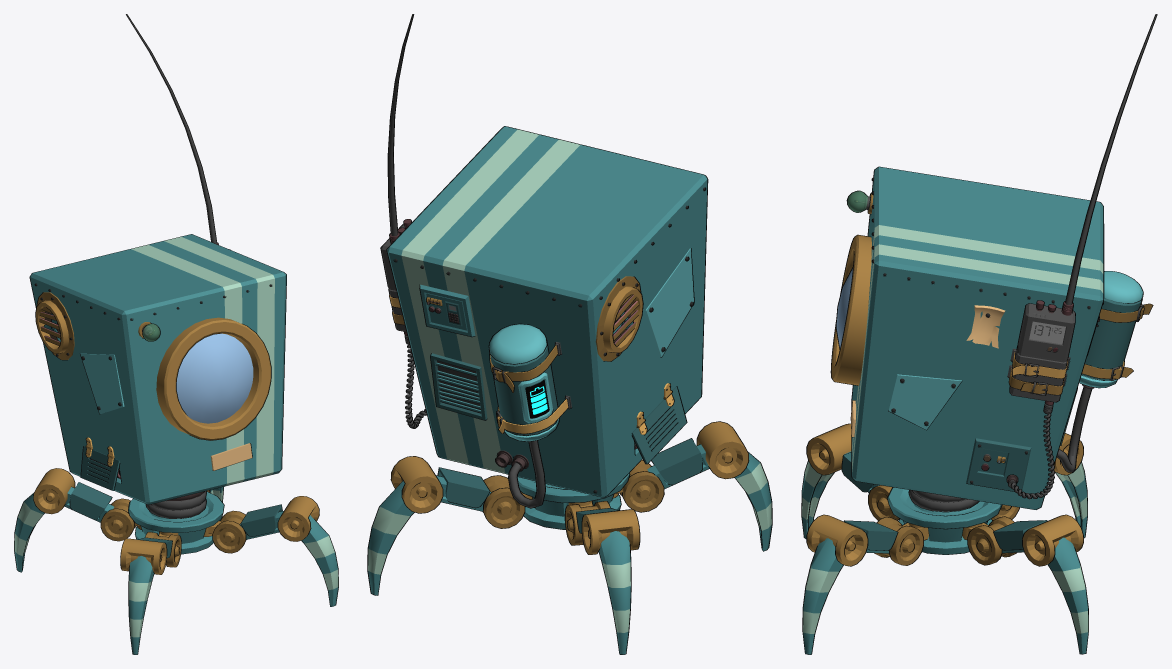
3 renders of one model, left to right at view 1: azimuth 30°, elevation 25°; view 2: azimuth 150°, elevation 25°; view 3: azimuth 270°, elevation 25°, orthographic. The views are drawn at different scales.
Visible parts, largest first — view 1: Object041_Material #1601_0, Object041_steel_02_02_0, Object041_Material #1602_0, Object041_Material #1627_0, Object040_Material #1573_0, Object041_steel_02_03_0, Object041_Material #1628_0, Object041_Material #1651_0, Object041_Material #1625_0, Object041_Material #5503_0; view 2: Object041_Material #1601_0, Object041_Material #1602_0, Object040_Material #1573_0, Object041_Material #1628_0, Object041_steel_02_02_0, Object041_Material #1625_0, Object041_steel_02_03_0, Object041_Material #1651_0, Object041_steel_02_01_0; view 3: Object041_Material #1601_0, Object041_steel_02_02_0, Object041_Material #1602_0, Object040_Material #1573_0, Object041_Material #1628_0, Object041_steel_02_03_0, Object041_Material #1651_0, Object041_Material #1625_0, Object041_Material #1881_0, Object041_Material #5503_0, Object041_Material #1882_0, Object041_Material #1627_0.
Boxes of the visible parts, x1,y1,x2,y2 form: Object041_Material #1601_0: (14,234,338,654); Object041_steel_02_02_0: (33,300,319,574); Object041_Material #1602_0: (14,237,338,637); Object041_Material #1627_0: (176,333,253,423); Object040_Material #1573_0: (14,14,338,654); Object041_steel_02_03_0: (37,292,245,567); Object041_Material #1628_0: (51,327,282,557); Object041_Material #1651_0: (126,14,216,518); Object041_Material #1625_0: (80,353,124,414); Object041_Material #5503_0: (210,443,252,470); Object041_Material #1601_0: (368,126,771,654); Object041_Material #1602_0: (368,129,771,632); Object040_Material #1573_0: (367,14,772,654); Object041_Material #1628_0: (430,301,702,532); Object041_steel_02_02_0: (391,286,748,554); Object041_Material #1625_0: (489,248,693,441); Object041_steel_02_03_0: (426,276,671,545); Object041_Material #1651_0: (388,14,635,507); Object041_steel_02_01_0: (389,295,673,434); Object041_Material #1601_0: (802,167,1103,654); Object041_steel_02_02_0: (807,235,1142,565); Object041_Material #1602_0: (802,225,1103,633); Object040_Material #1573_0: (801,14,1157,654); Object041_Material #1628_0: (842,298,1141,550); Object041_steel_02_03_0: (868,193,1152,565); Object041_Material #1651_0: (909,14,1156,511); Object041_Material #1625_0: (888,271,1142,429); Object041_Material #1881_0: (866,197,1075,463); Object041_Material #5503_0: (851,305,1005,436); Object041_Material #1882_0: (1029,321,1065,344); Object041_Material #1627_0: (836,268,852,347).
Size of the model in its own units: 39.84 by 92.3 by 49.33.
